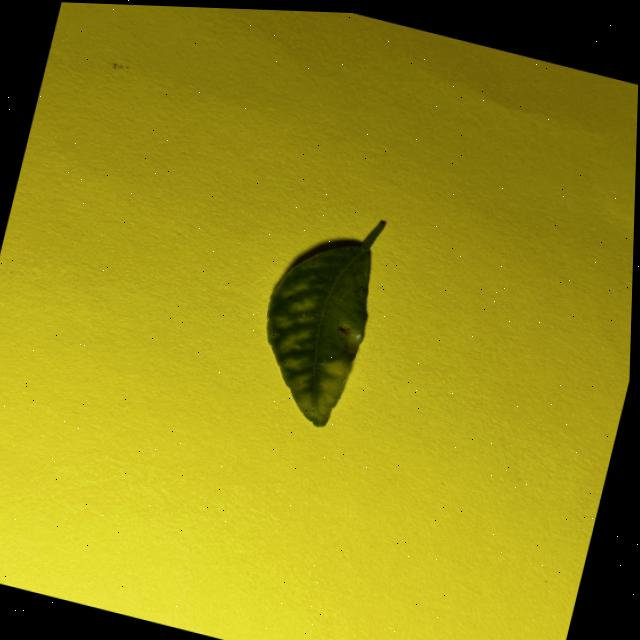greening: (266, 221, 384, 426)
